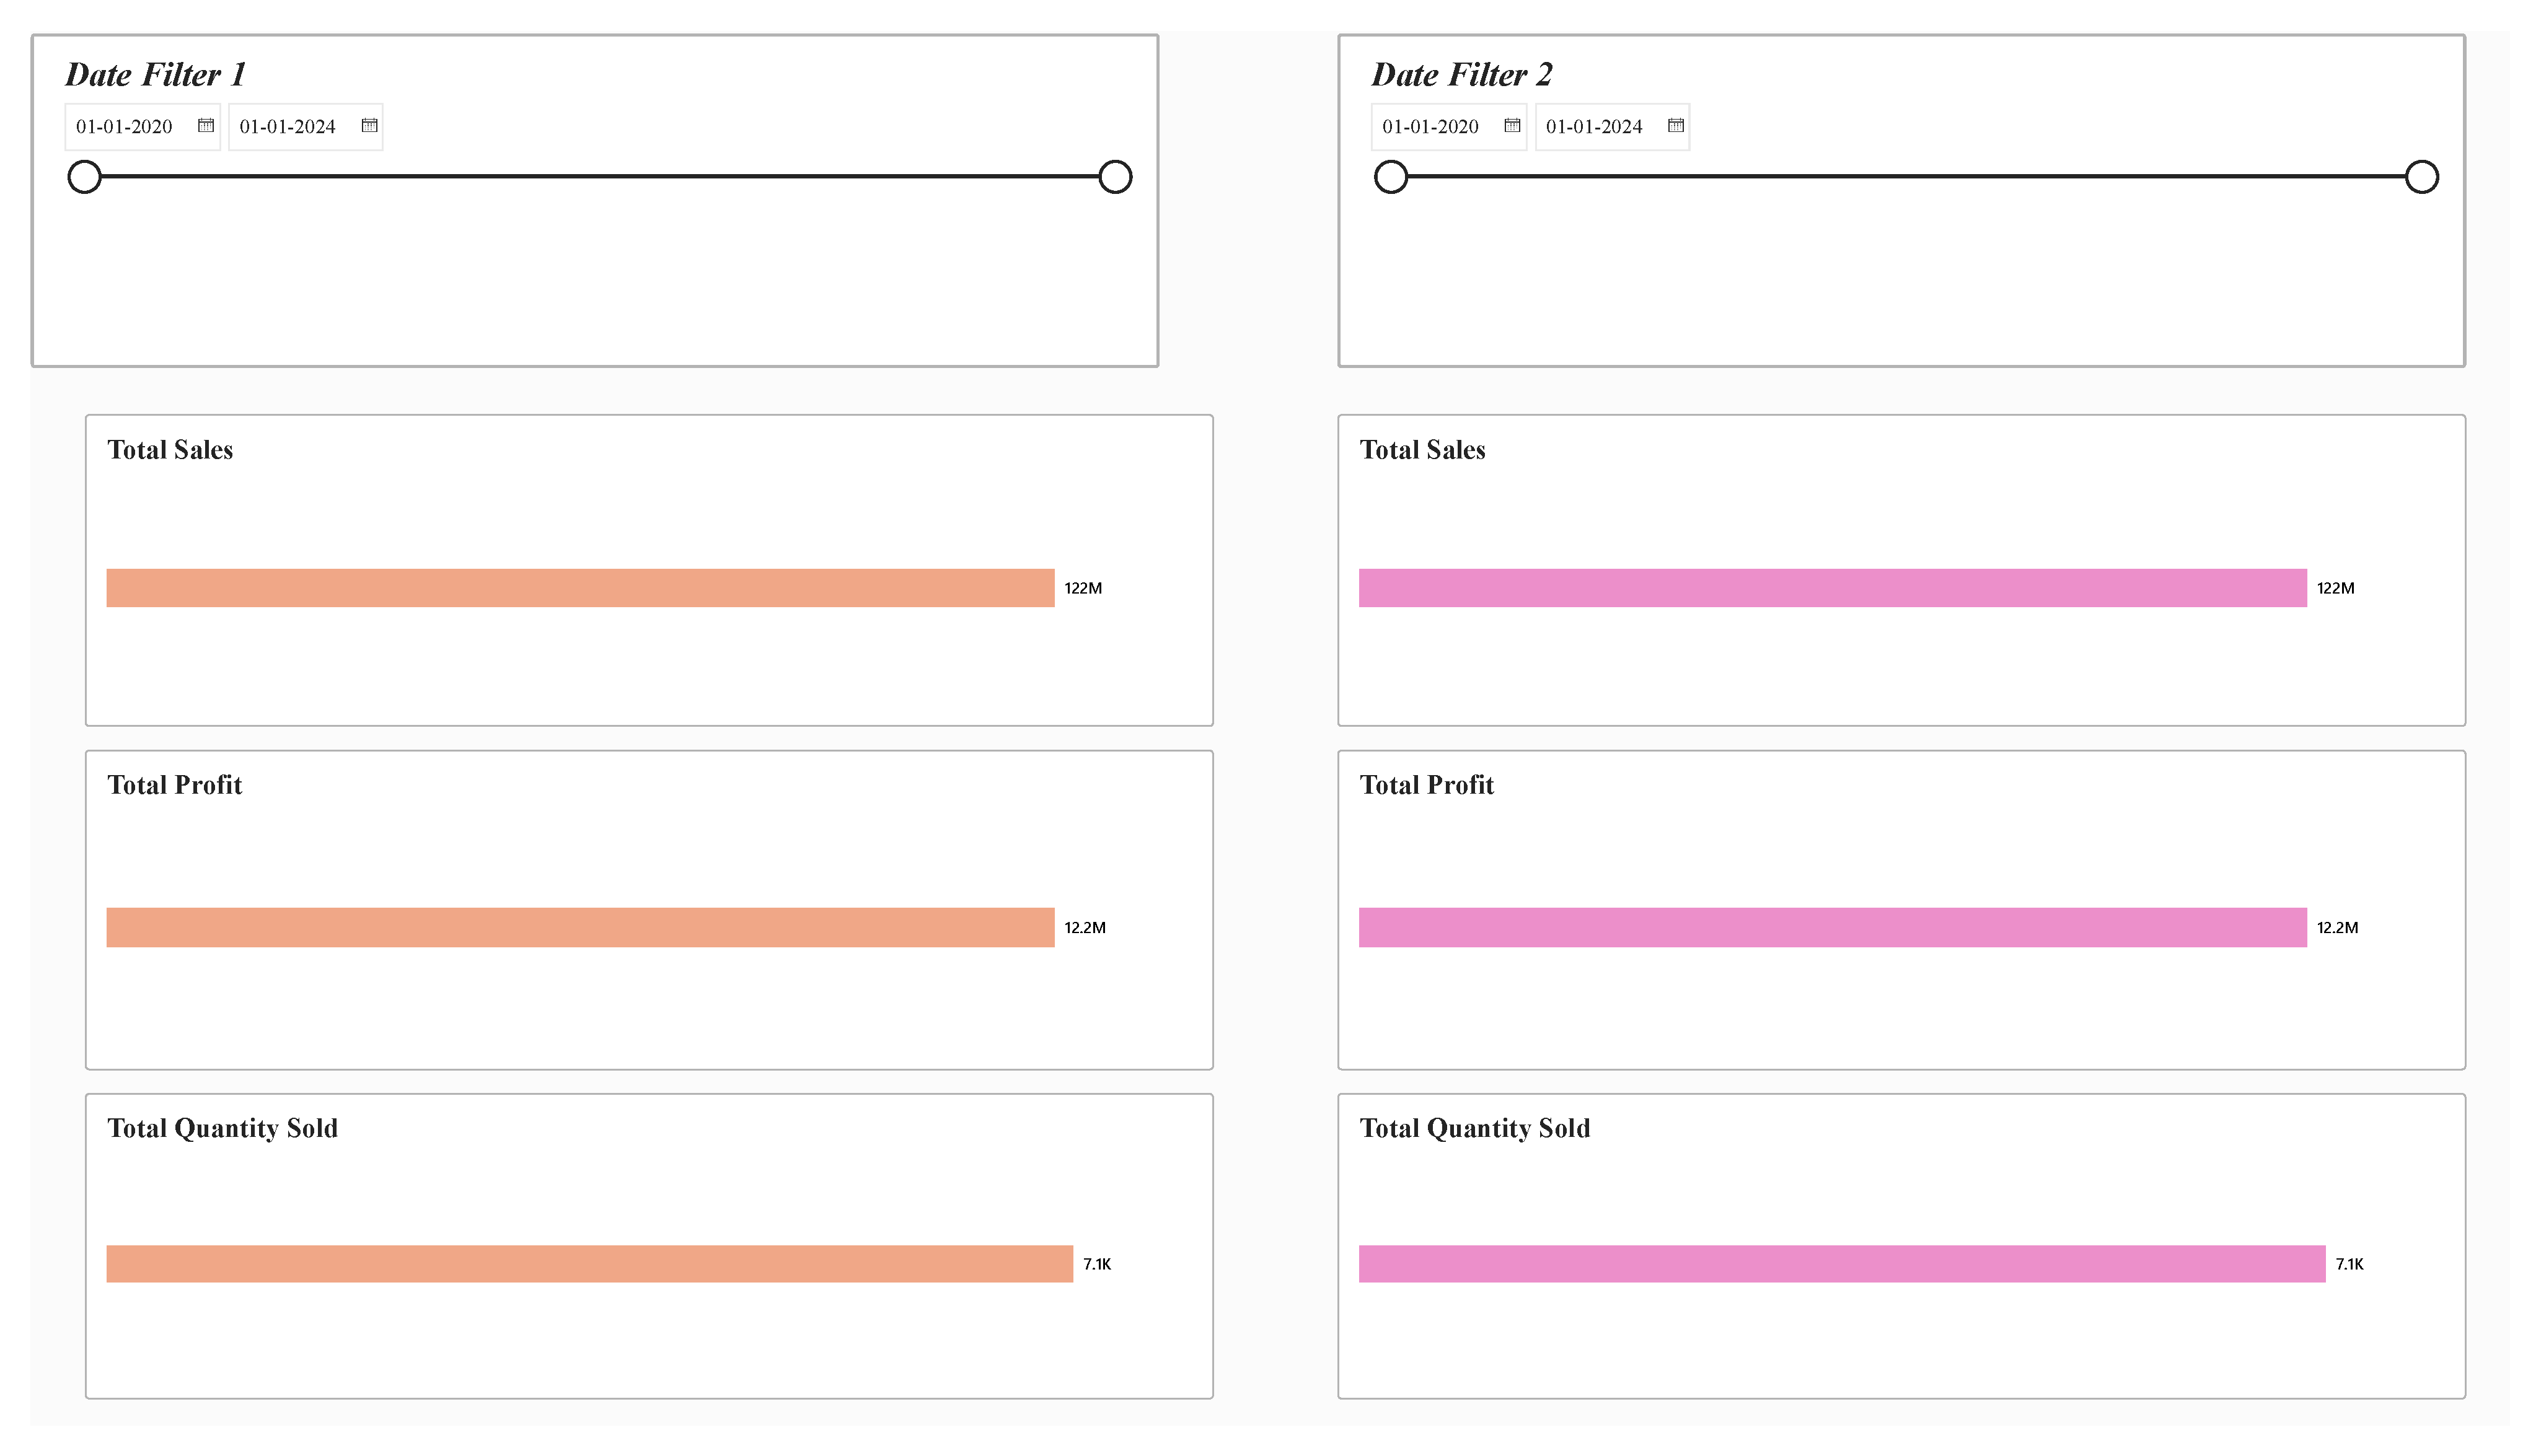

What the dashboard file says about the page in this screenshot:
{"tool":"powerbi","page":{"name":"Edit Interactions","canvas":[1920,1080],"ordinal":3},"visuals":[{"type":"slicer","fields":{"Values":["Fact Table.Date (dd/mm/yyyy)"]},"box":[0,1.8,874.1,258.8],"z":0},{"type":"slicer","fields":{"Values":["Fact Table.Date (dd/mm/yyyy)"]},"box":[1011.6,1.8,874.1,258.8],"z":1000},{"type":"barChart","title":"Total Sales","fields":{"Y":["Sum(Fact Table.Net Sales)"]},"box":[41.6,296.8,874.1,242.5],"z":2000},{"type":"barChart","title":"Total Quantity Sold","fields":{"Y":["Sum(Fact Table.Units Sold)"]},"box":[41.6,823.4,874.1,237.1],"z":3000},{"type":"barChart","title":"Total Profit","fields":{"Y":["Sum(Fact Table.Profit)"]},"box":[41.6,557.4,874.1,247.9],"z":4000},{"type":"barChart","title":"Total Sales","fields":{"Y":["Sum(Fact Table.Net Sales)"]},"box":[1011.6,296.8,874.1,242.5],"z":5000},{"type":"barChart","title":"Total Quantity Sold","fields":{"Y":["Sum(Fact Table.Units Sold)"]},"box":[1011.6,823.4,874.1,237.1],"z":6000},{"type":"barChart","title":"Total Profit","fields":{"Y":["Sum(Fact Table.Profit)"]},"box":[1011.6,557.4,874.1,247.9],"z":7000}]}

Visuals, with their boxes on the page's 1920x1080 design canvas (x1, y1, x2, y2). These are canvas units, not pixel positions in the 2541x1456 screenshot, which may show the page scaled, cropped or inside an application window:
slicer - Fact Table.Date (dd/mm/yyyy): 0 2 874 261
slicer - Fact Table.Date (dd/mm/yyyy): 1012 2 1886 261
"Total Sales" barChart: 42 297 916 539
"Total Quantity Sold" barChart: 42 823 916 1060
"Total Profit" barChart: 42 557 916 805
"Total Sales" barChart: 1012 297 1886 539
"Total Quantity Sold" barChart: 1012 823 1886 1060
"Total Profit" barChart: 1012 557 1886 805
